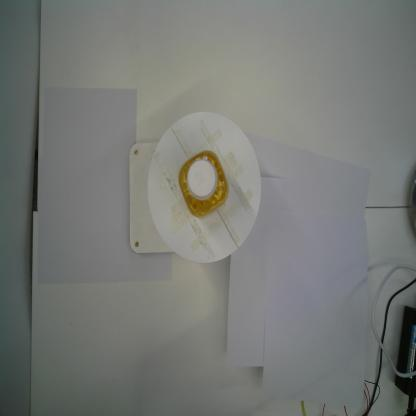Drink: (178, 149, 228, 218)
